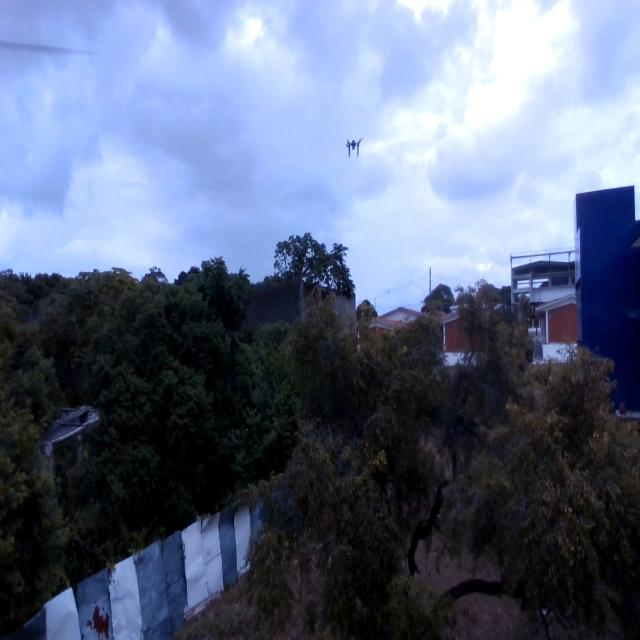-uav-: (342, 130, 364, 164)
